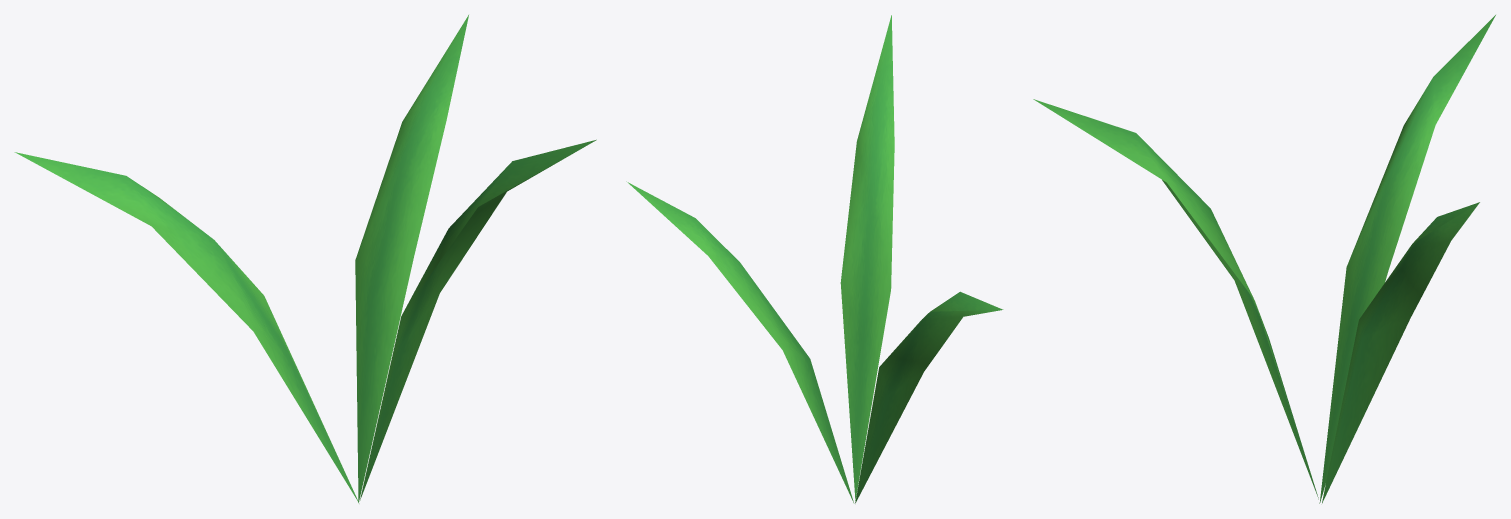
File: Grass_Clump_2.glb
3 views of the same model, side by side, from view 1: azimuth 30°, elevation 25°; view 2: azimuth 150°, elevation 25°; view 3: azimuth 270°, elevation 25° (orthographic). The views are drawn at different scales.
Parts seen in each view (by area): view 1: object6.062_object6.052, object6.061_object6.051, object6.063_object6.056; view 2: object6.063_object6.056, object6.061_object6.051, object6.062_object6.052; view 3: object6.061_object6.051, object6.062_object6.052, object6.063_object6.056.
Boxes of the visible parts, <box> form: object6.062_object6.052: <box>355,15,468,502</box>; object6.061_object6.051: <box>14,152,359,503</box>; object6.063_object6.056: <box>360,139,596,500</box>; object6.063_object6.056: <box>840,15,894,500</box>; object6.061_object6.051: <box>855,291,1003,503</box>; object6.062_object6.052: <box>626,181,854,503</box>; object6.061_object6.051: <box>1319,15,1495,503</box>; object6.062_object6.052: <box>1322,202,1479,503</box>; object6.063_object6.056: <box>1033,99,1318,499</box>.
Size of the model in its own units: 0.4557 by 0.4327 by 0.4001.
Materials: 1 (1 with a texture image).
